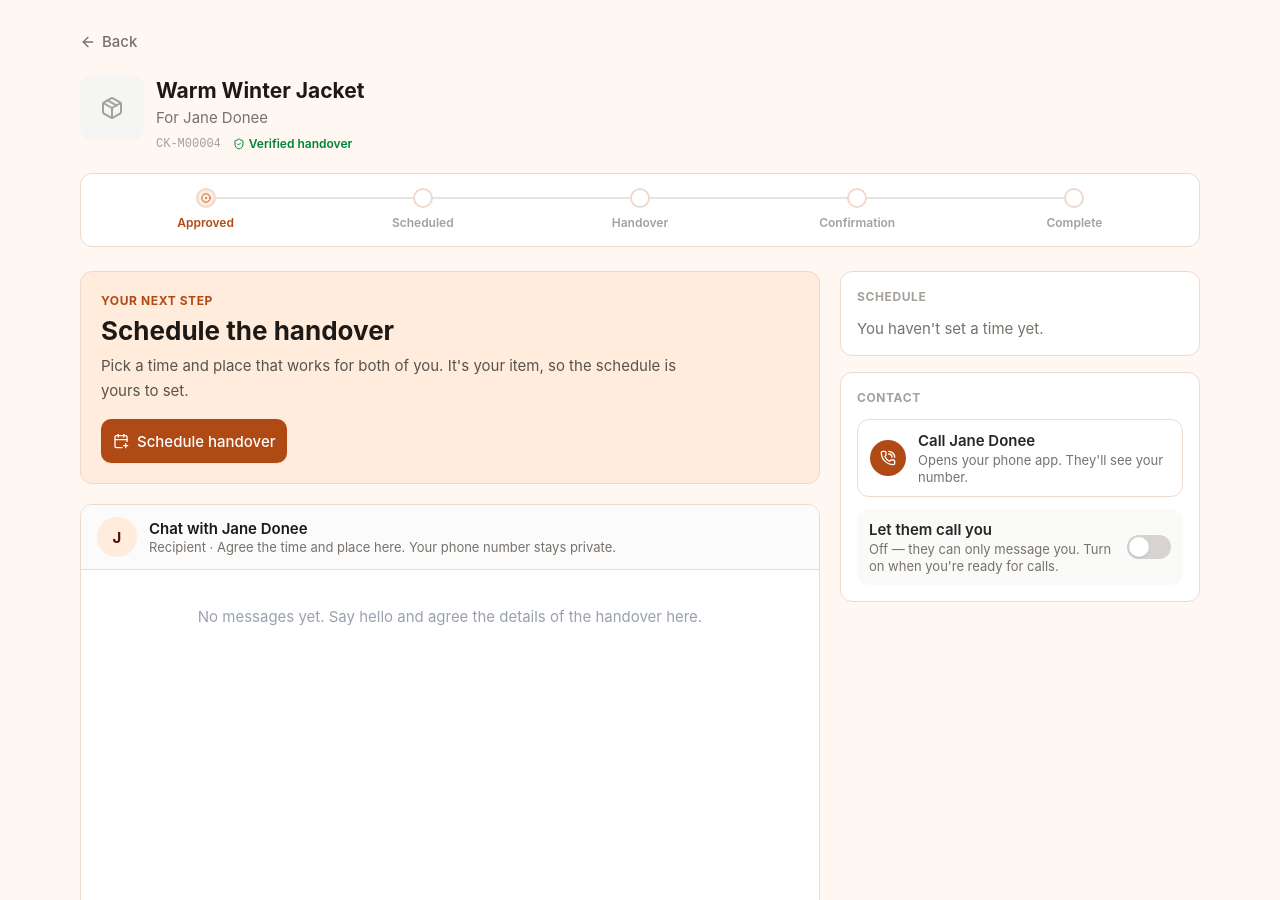
Test: Handover Hub - Match in BOTH_PARTIES_ACCEPTED (unscheduled) status › renders the schedule-handover form and controls for the DONOR, not a 404 or error
Expected: the heading "Schedule the handover" is shown, [101,315,394,346]
Expected: the heading "Warm Winter Jacket" is shown, [156,78,364,103]
Clicking "Schedule handover" opens the schedule dialog
Click the button "Schedule handover": (194, 441) [101,419,288,463]
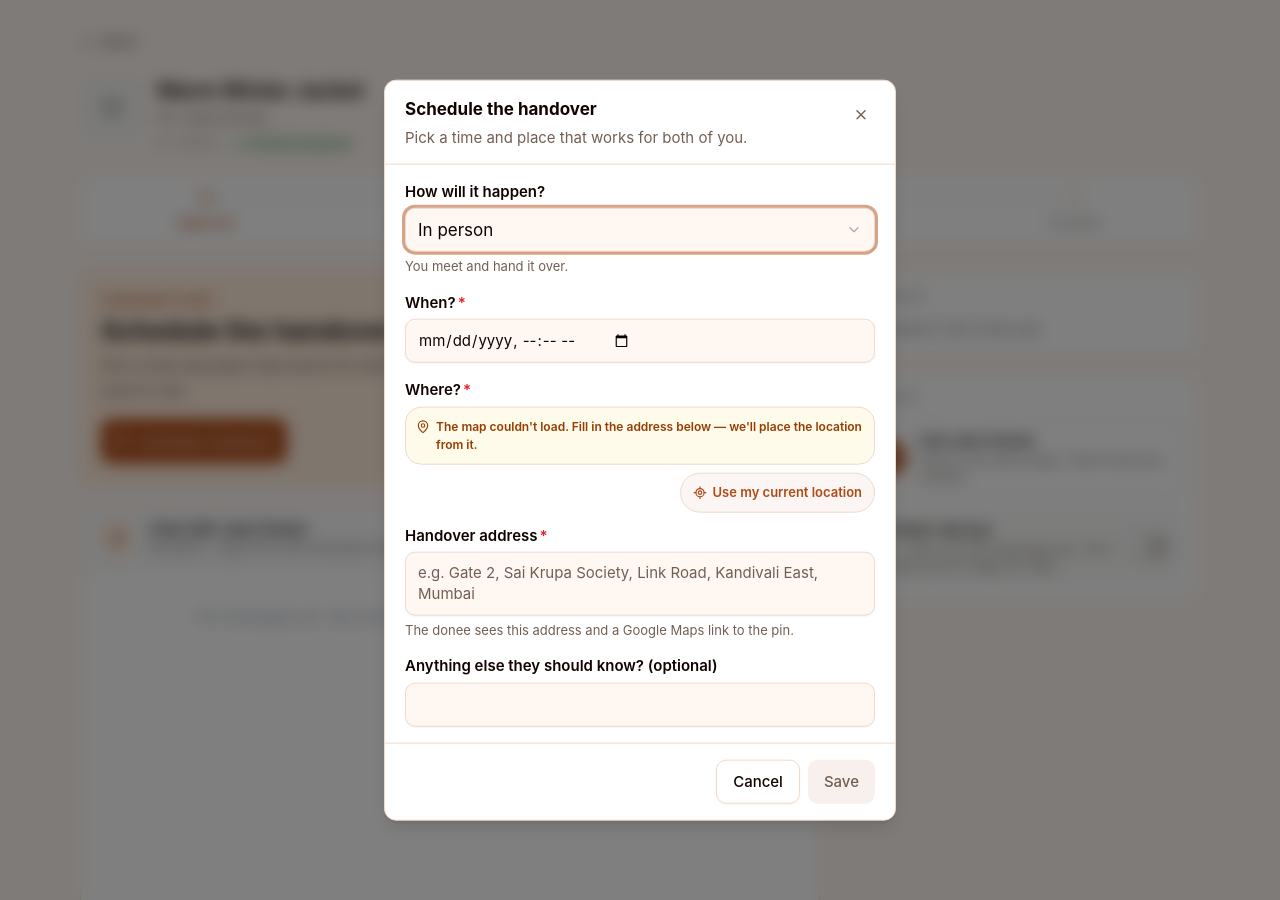
Result: the dialog is shown at [384,80,896,820]
Result: the text "Pick a time and place that works for both of you." is shown at [405,127,747,146]
Result: the dropdown named "How will it happen" is shown at [405,208,875,252]
